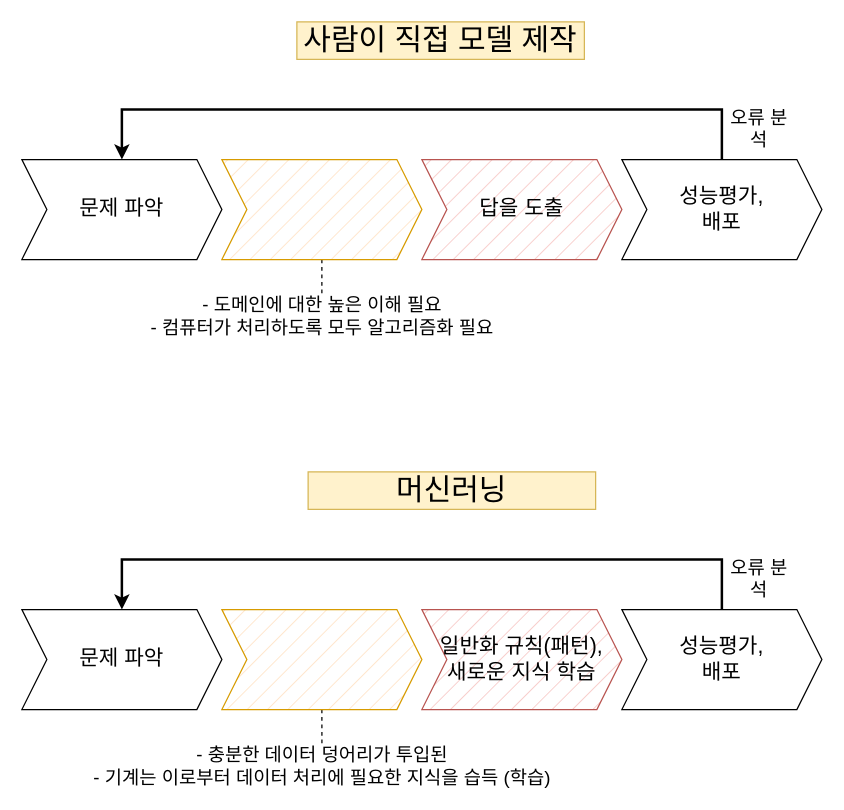
Image size: 844x810. Some labels were removed from this diagram. The box of each missing label's shape, as (x1, y1, x2, y2) in pixels:
머신러닝 (학습 알고리즘): (221, 608, 422, 710)
알고리즘 작성 (프로그래밍): (221, 158, 422, 260)
